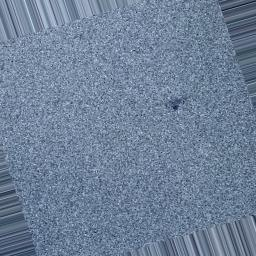Airplane: (155, 93, 193, 111)
